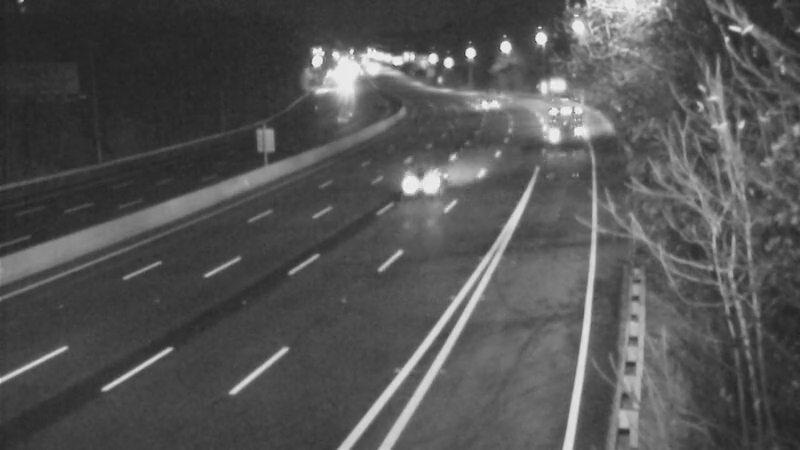vehicle: (383, 141, 463, 221), (457, 80, 507, 130), (524, 83, 574, 133)
